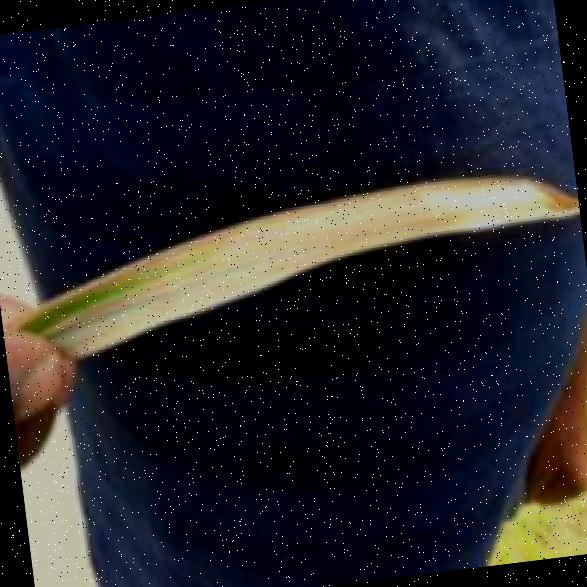Bacteria_Leaf_Blight: (73, 157, 578, 285)
